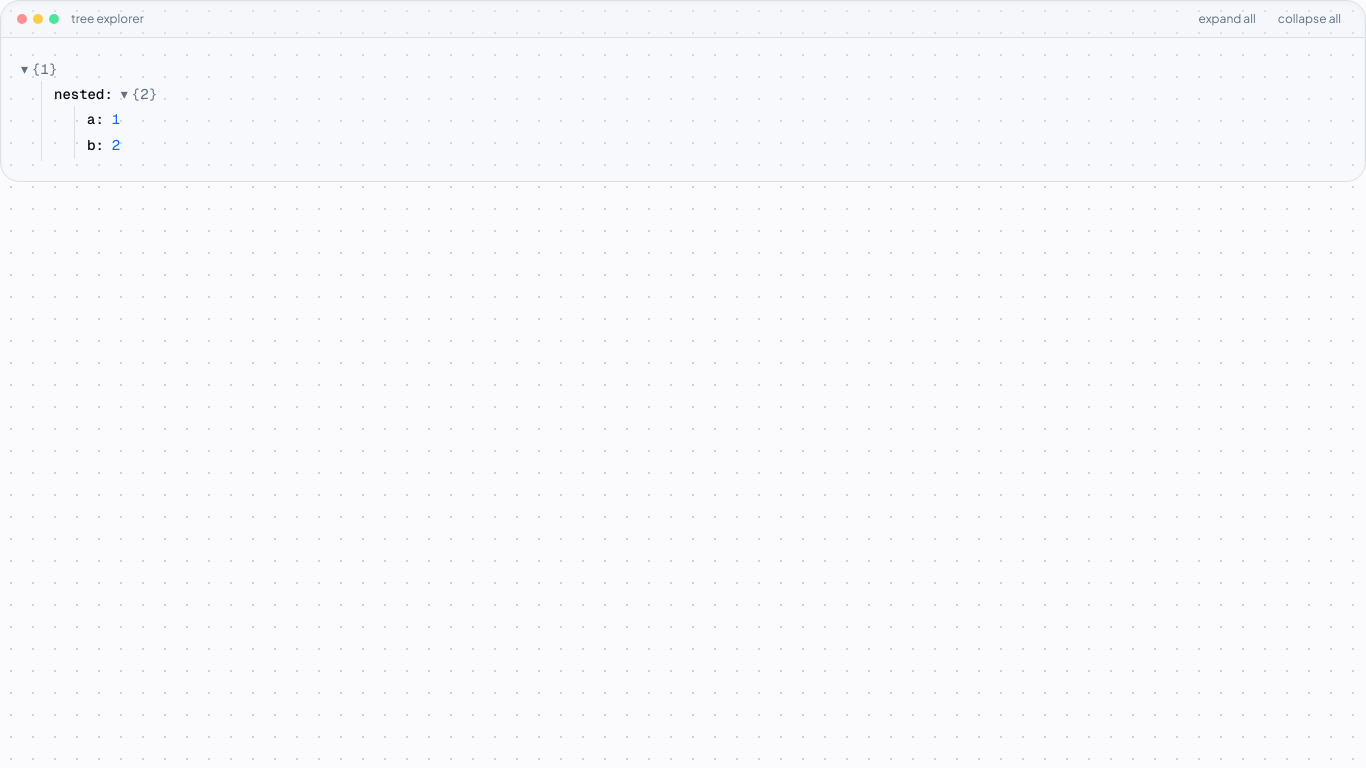
Scenario: TreePanel › collapses a node on toggle click
The width and height of the screenshot is (1366, 768).
Expected: the text "nested:" is shown, [54,85,113,103]
Click the button named "collapse".
click(24, 69)  # box [21,58,28,81]
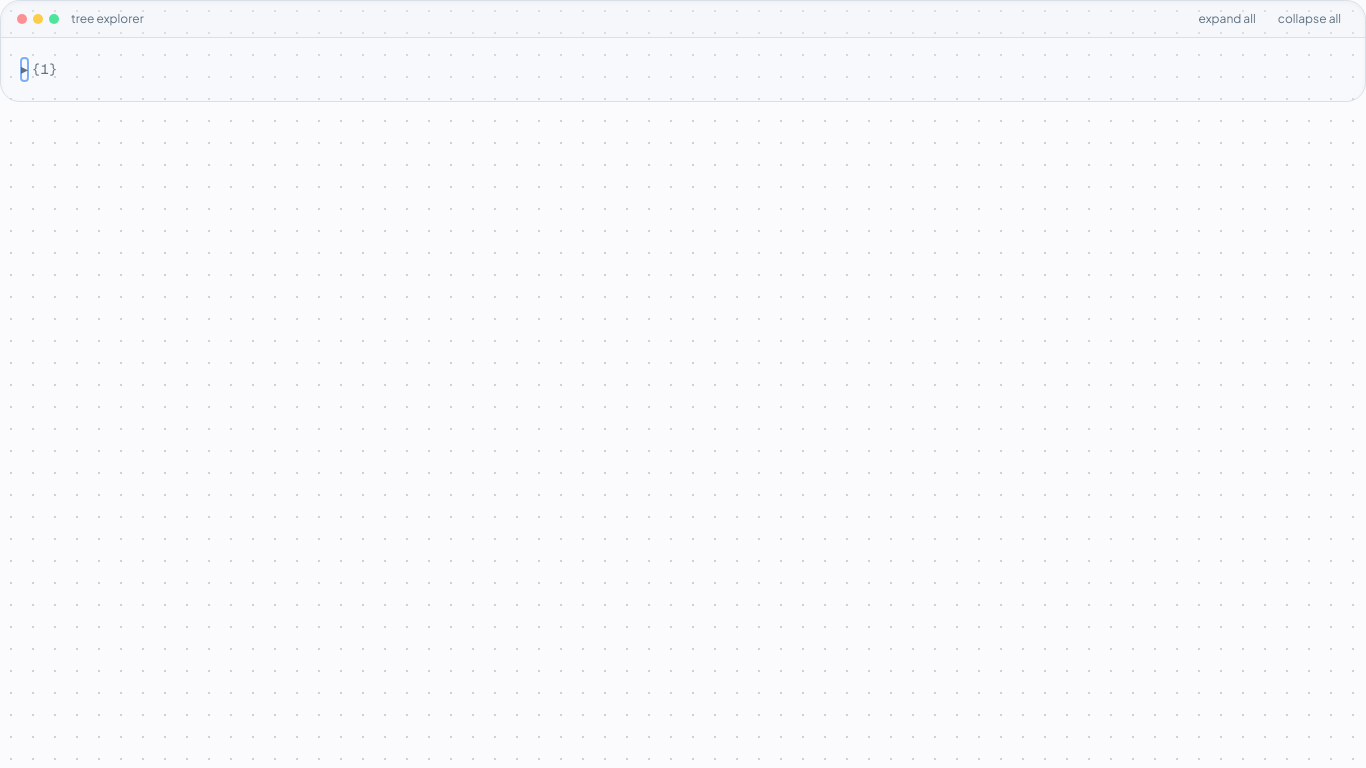
Expected: the text "nested:" is gone
